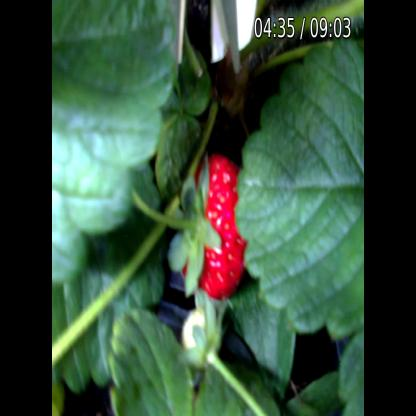ripe: (180, 152, 262, 306)
